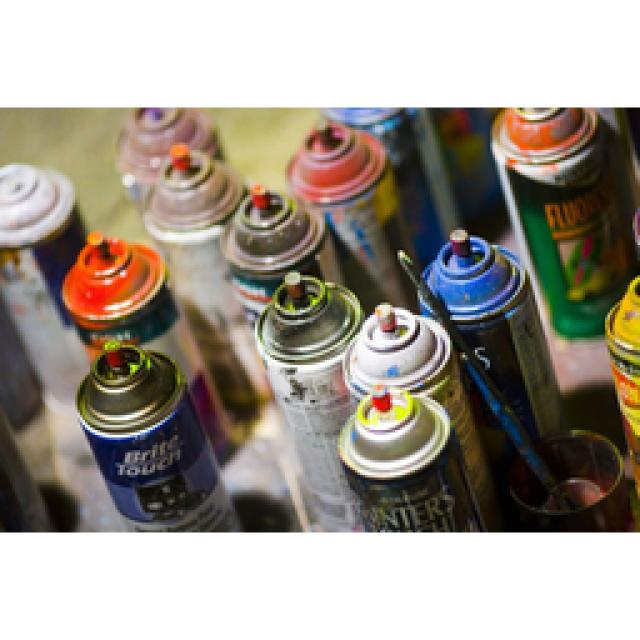B3: (497, 110, 633, 338)
zat_kimia: (142, 147, 273, 435), (419, 234, 557, 474), (0, 165, 96, 496), (76, 340, 243, 528), (257, 283, 373, 533), (288, 125, 421, 320), (338, 385, 478, 531), (62, 230, 176, 369), (223, 184, 329, 333), (117, 109, 224, 216)
